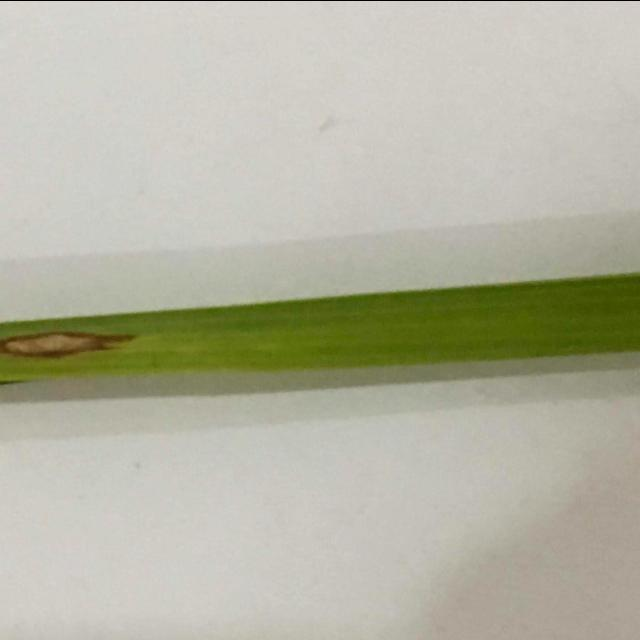Leaf blast: (0, 237, 640, 486)
